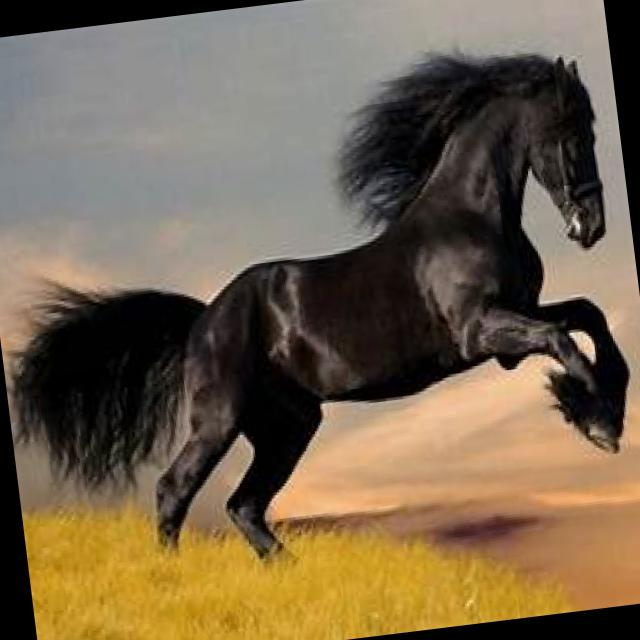animal: (0, 28, 640, 594)
